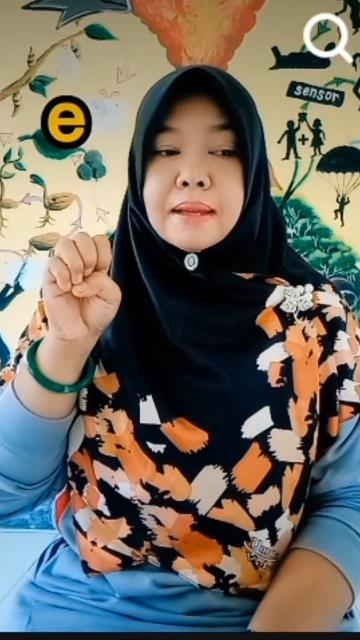E: (42, 232, 126, 356)
